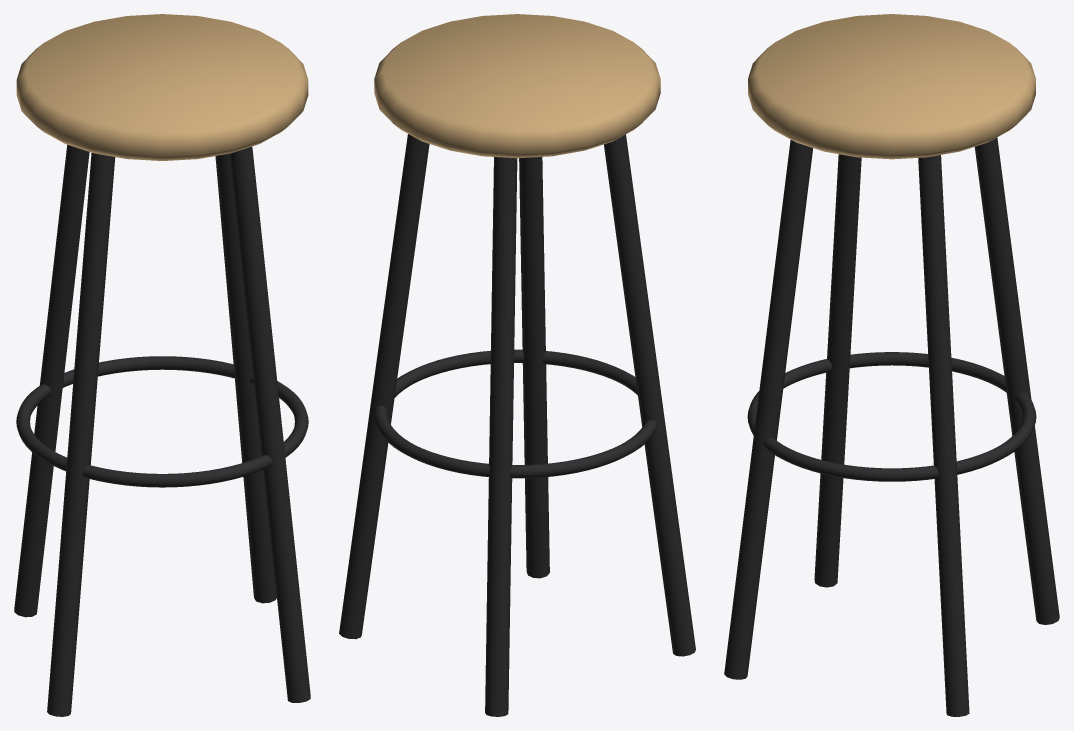
The model's file is i_stool_3.glb.
3 views of the same model, side by side, from view 1: azimuth 30°, elevation 25°; view 2: azimuth 150°, elevation 25°; view 3: azimuth 270°, elevation 25° (orthographic).
Visible parts, largest first — view 1: o.004, o.002, o.003, o.001, o, o.005; view 2: o.004, o.001, o.002, o, o.003, o.005; view 3: o.004, o, o.003, o.001, o.002, o.005.
Part boxes in pixels (x1=…): o.004: x1=16, y1=14, x2=308, y2=160; o.002: x1=47, y1=153, x2=115, y2=716; o.003: x1=229, y1=146, x2=310, y2=702; o.001: x1=14, y1=145, x2=89, y2=617; o: x1=215, y1=153, x2=276, y2=603; o.005: x1=16, y1=356, x2=308, y2=487; o.004: x1=374, y1=14, x2=660, y2=158; o.001: x1=485, y1=157, x2=517, y2=716; o.002: x1=604, y1=134, x2=695, y2=656; o: x1=339, y1=134, x2=429, y2=639; o.003: x1=519, y1=157, x2=549, y2=578; o.005: x1=374, y1=349, x2=657, y2=478; o.004: x1=748, y1=14, x2=1035, y2=159; o: x1=918, y1=155, x2=969, y2=716; o.003: x1=724, y1=140, x2=812, y2=679; o.001: x1=974, y1=137, x2=1059, y2=624; o.002: x1=814, y1=154, x2=861, y2=587; o.005: x1=747, y1=352, x2=1036, y2=481.
Size of the model in its own units: 0.3961 by 0.7517 by 0.3961.
